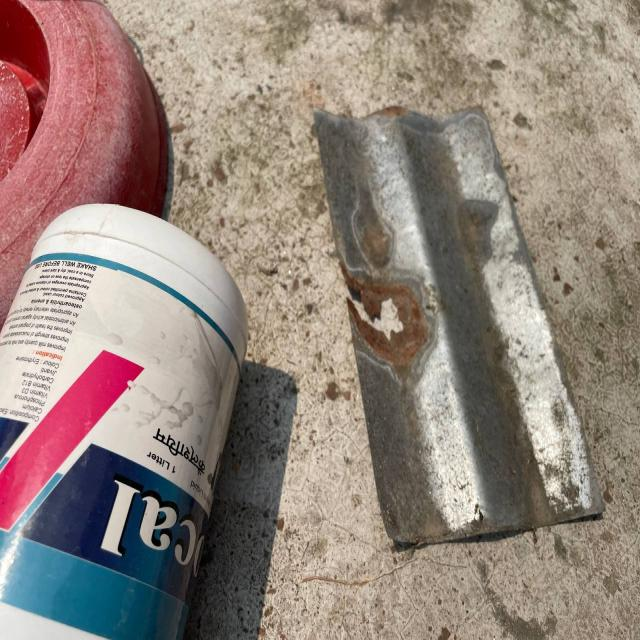Metal: (290, 89, 622, 593)
Plastics: (0, 0, 285, 640)
